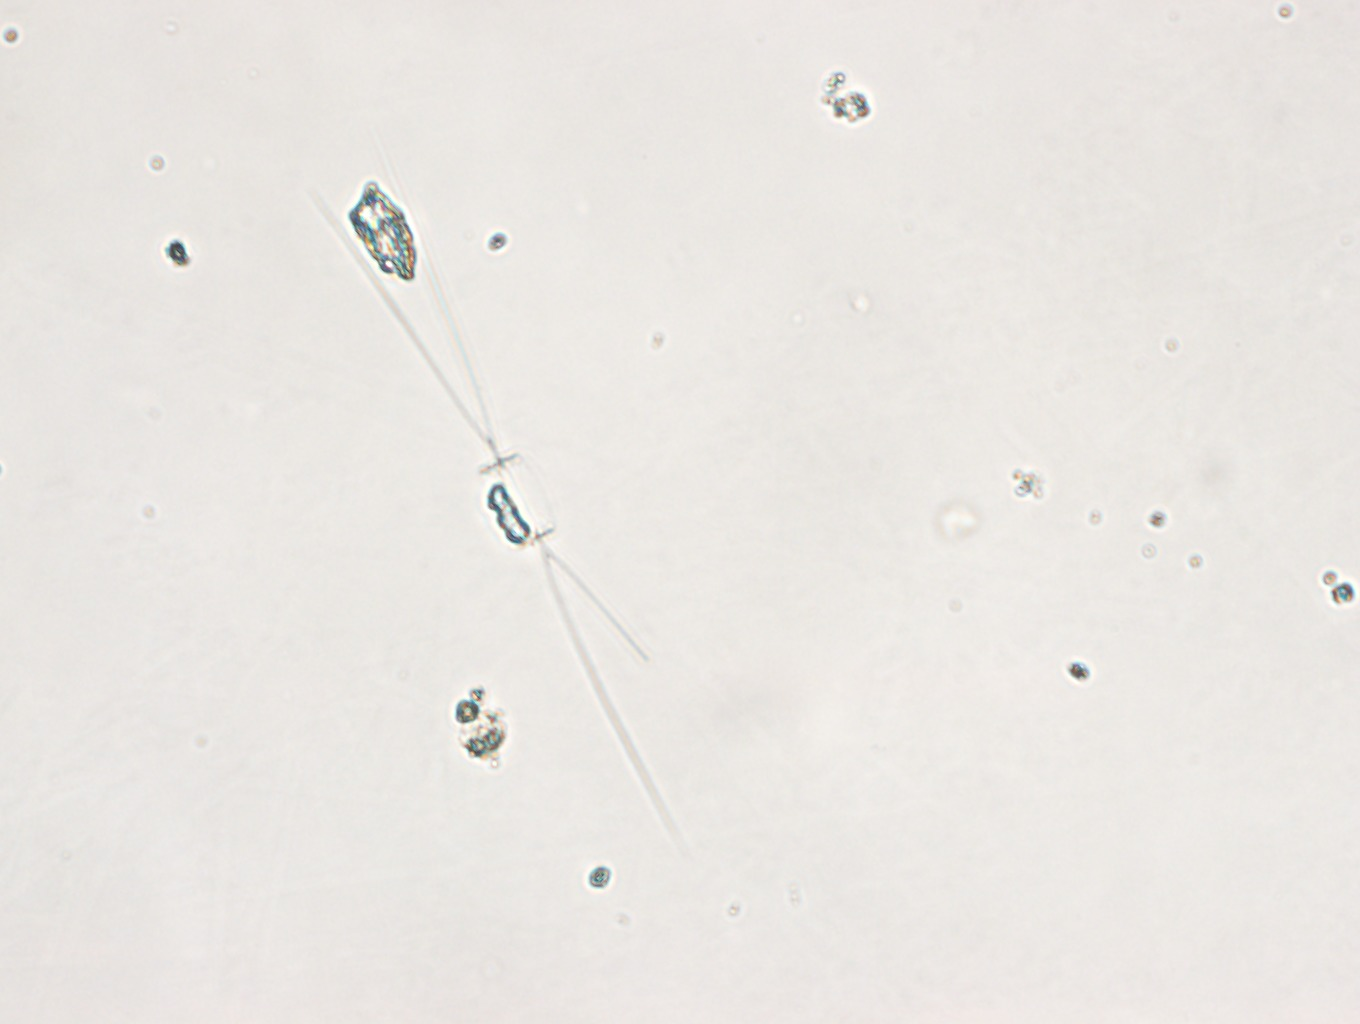chaetoceros: (323, 184, 678, 840)
